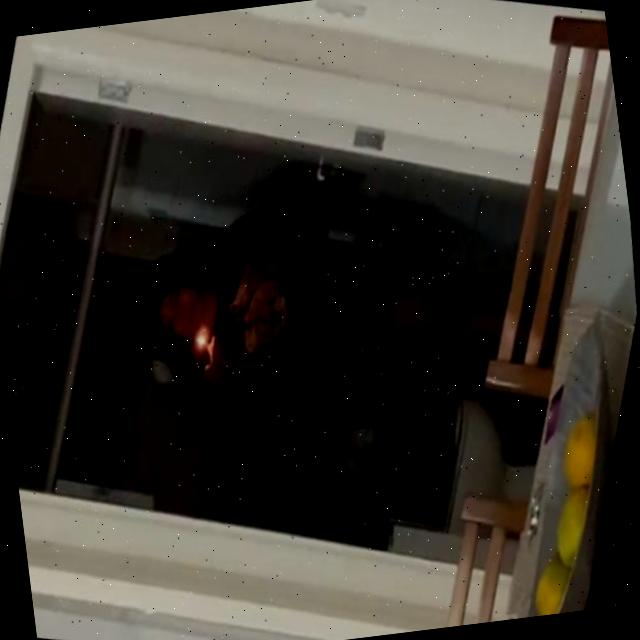fire: (188, 312, 225, 355)
